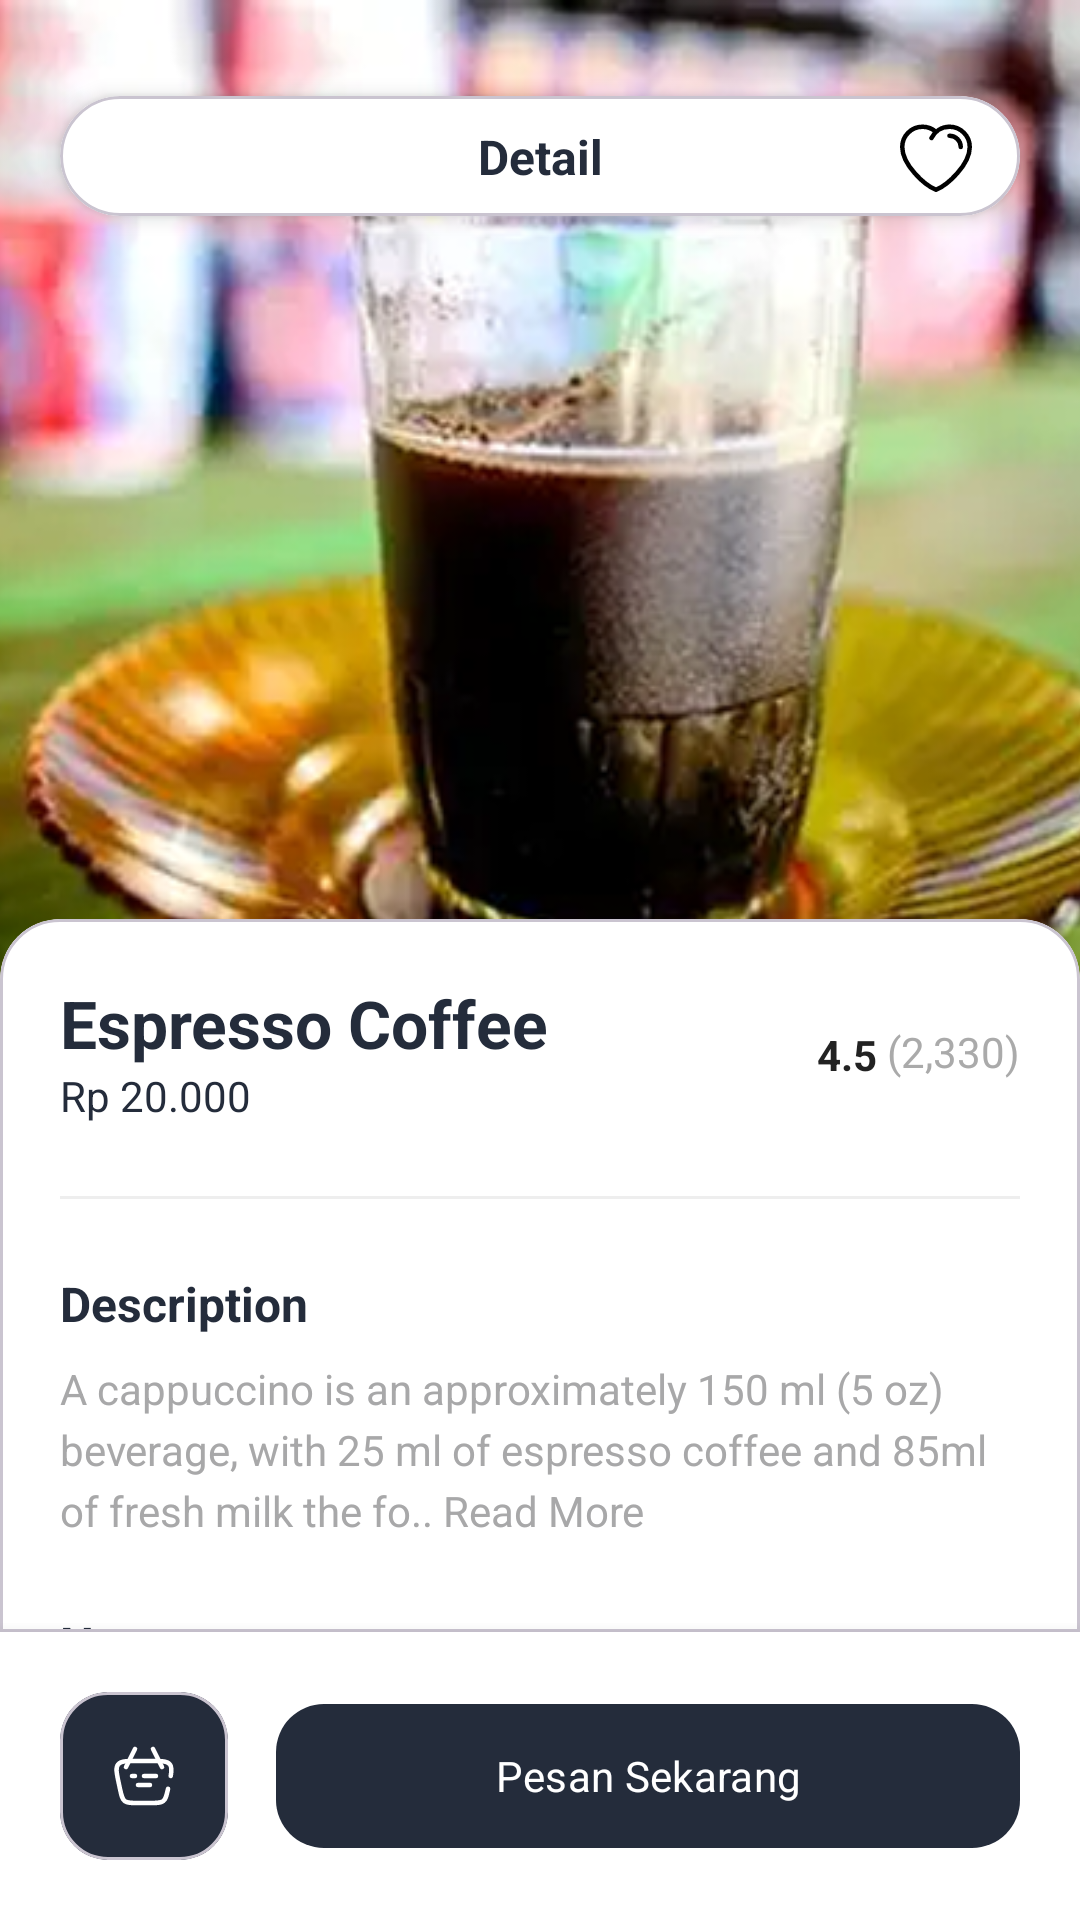

Named icons in this screenshot (1080 x 1920) and their bounding boxes, (left=x1, top=y1, right=x2, bottom=y2):
cart: (left=114, top=1746, right=174, bottom=1806)
heart: (left=900, top=124, right=972, bottom=192)
